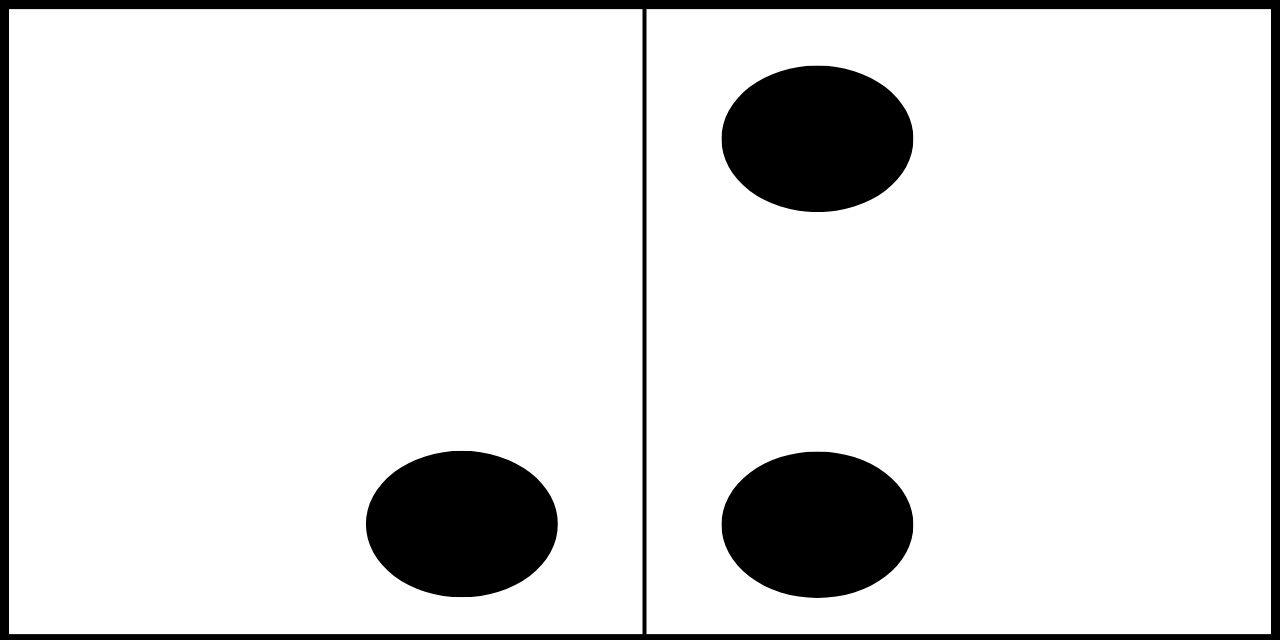K: (722, 62, 1201, 601)
capital: (96, 61, 557, 598)
